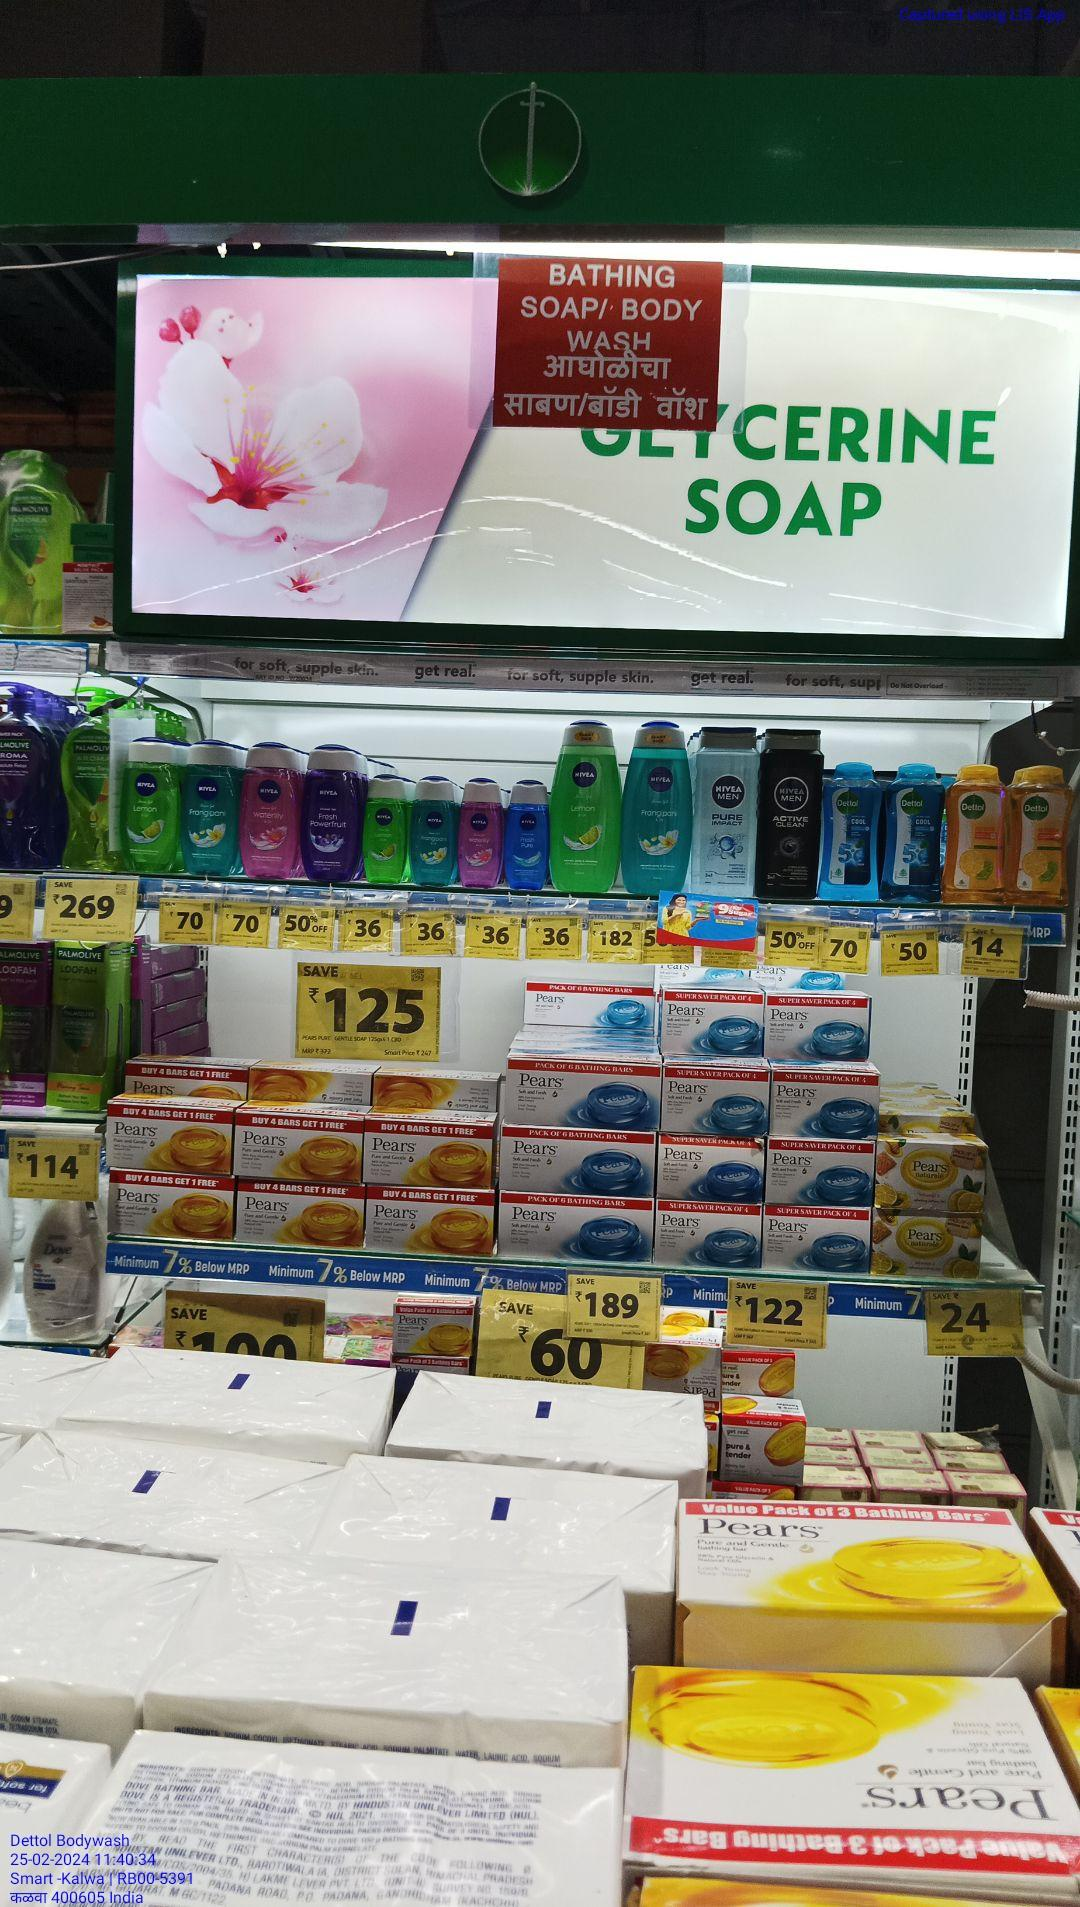Dettol_Bodywash_Cool: (888, 765, 944, 905), (826, 764, 880, 902)
Dettol_Bodywash_Refresh: (950, 765, 1008, 906), (1013, 766, 1068, 908)
Nivea_Shower_Gel_Frangipani_and_Oil_250ML: (624, 722, 689, 896), (183, 743, 233, 875)
Nivea_Shower_Gel_Fresh_Powerfruit_250ML: (300, 748, 359, 881)
Nivea_Shower_Gel_Lemon_and_Oil_250ML: (549, 723, 619, 891), (122, 743, 171, 876)
Nivea_Shower_Gel_Waterlily_and_Oil_250ML: (242, 745, 293, 876)
